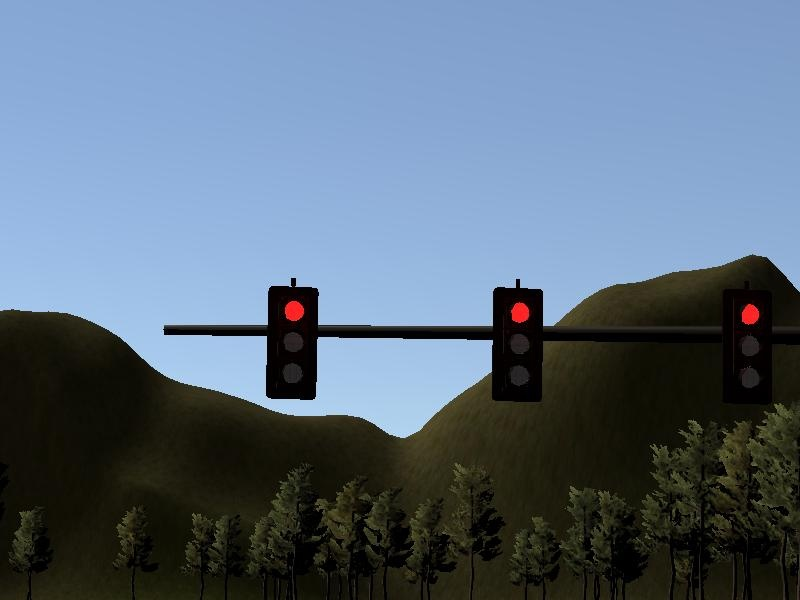red: (268, 286, 319, 400), (493, 288, 543, 403), (723, 291, 772, 405)
